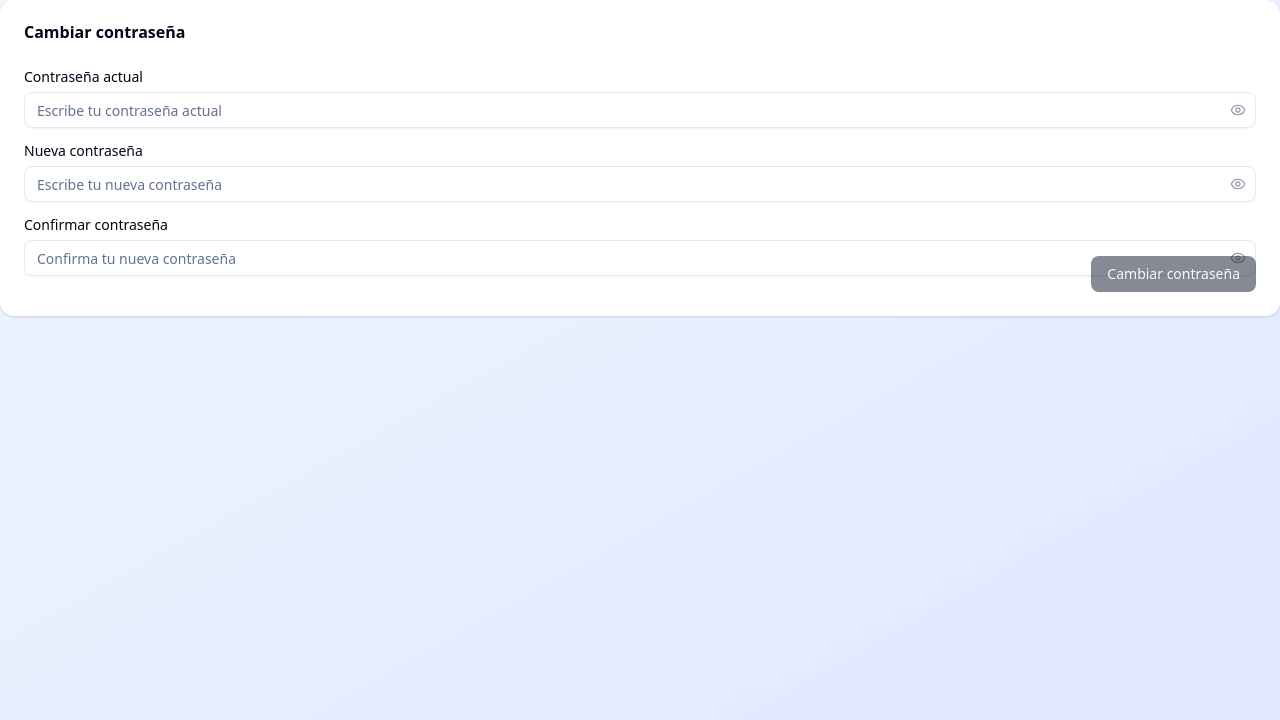
Test: ChangePassword › muestra error cuando la contraseña actual es incorrecta
Type "wrongpass" into the password field with placeholder "Escribe tu contraseña actual" at point(640, 110), box [24,92,1256,128]
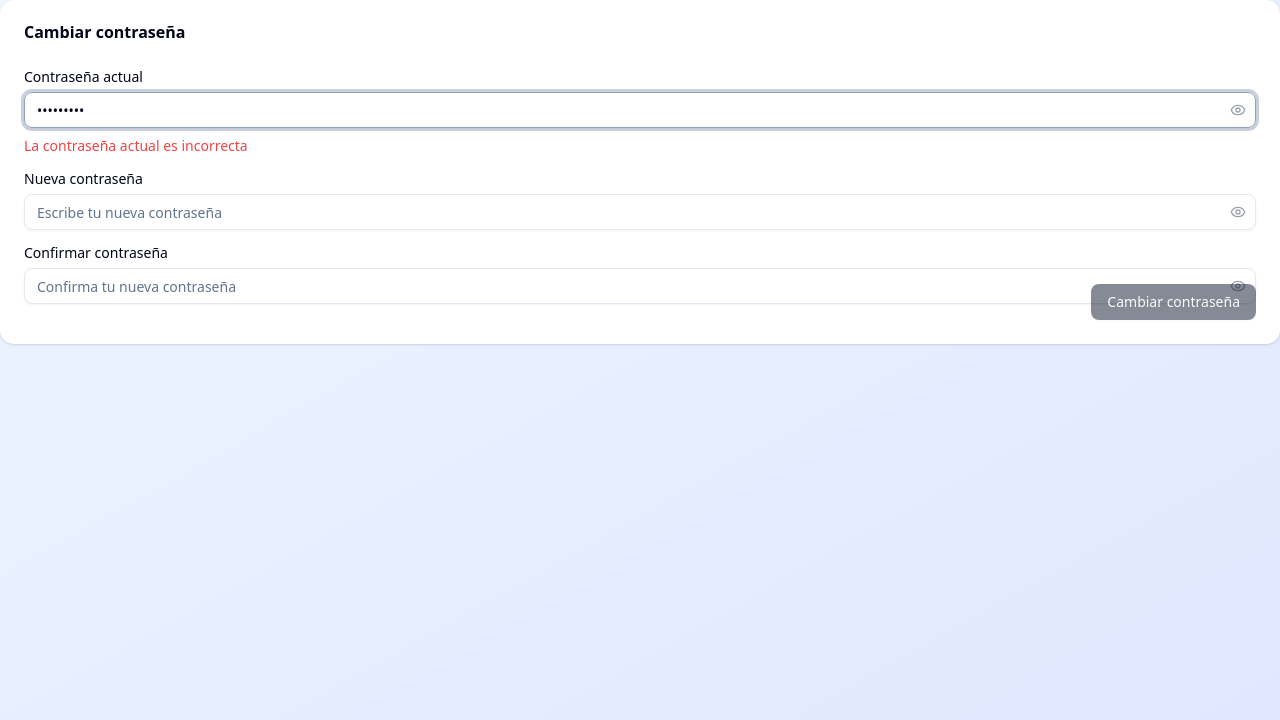
Expected: the text "La contraseña actual es incorrecta" is shown, [24,136,248,155]
